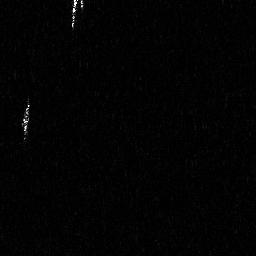ship: (20, 95, 32, 143)
